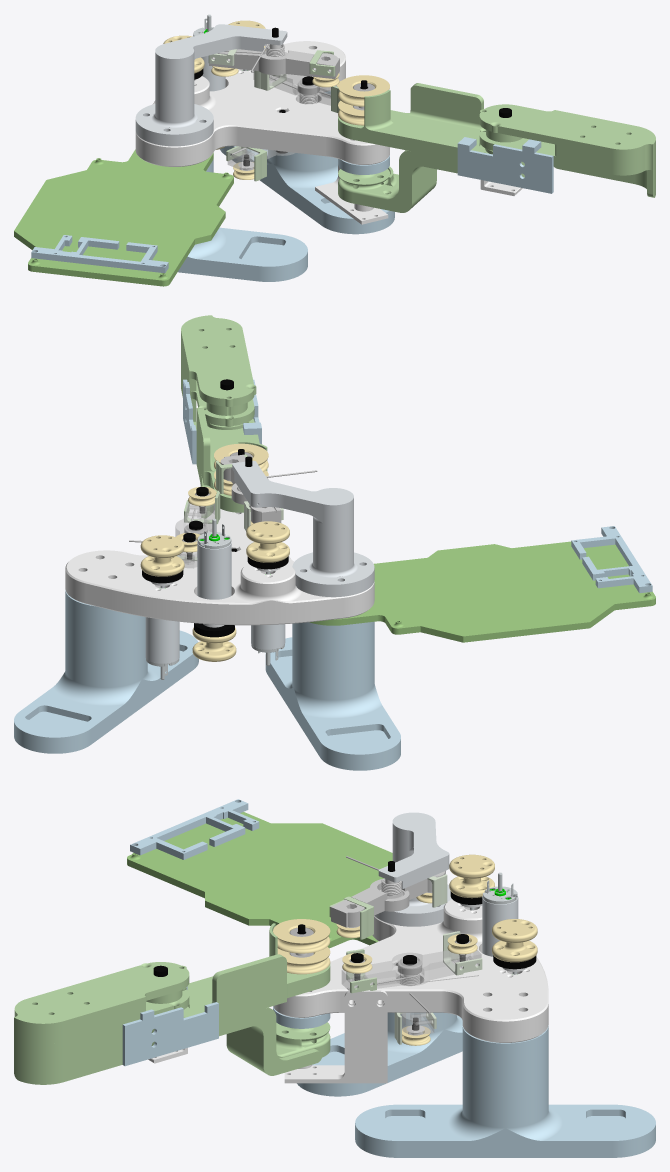
Rendered from stanford-assembly.glb.
3 views of the same model, one above another, from view 1: azimuth 30°, elevation 25°; view 2: azimuth 150°, elevation 25°; view 3: azimuth 270°, elevation 25° (orthographic). The views are drawn at different scales.
Parts seen in each view (by area): view 1: Part 1 (×21), potentiometer holder bottom, 118740_RE13_EB_1_2W_SL_1WE; view 2: Part 1 (×15), 118740_RE13_EB_1_2W_SL_1WE (×3), potentiometer holder bottom; view 3: Part 1 (×21), potentiometer holder bottom, 118740_RE13_EB_1_2W_SL_1WE.
Part boxes in pixels (box(x1,y1,x2,y2)): Part 1 (×21): box(14, 24, 655, 286); potentiometer holder bottom: box(31, 235, 168, 273); 118740_RE13_EB_1_2W_SL_1WE: box(193, 14, 225, 91); Part 1 (×15): box(14, 315, 655, 770); 118740_RE13_EB_1_2W_SL_1WE (×3): box(145, 518, 285, 679); potentiometer holder bottom: box(571, 526, 652, 593); Part 1 (×21): box(14, 812, 655, 1157); potentiometer holder bottom: box(130, 799, 259, 859); 118740_RE13_EB_1_2W_SL_1WE: box(482, 872, 518, 956).
Bounding box in the file's own units: 0.4742 × 0.179 × 0.448.
